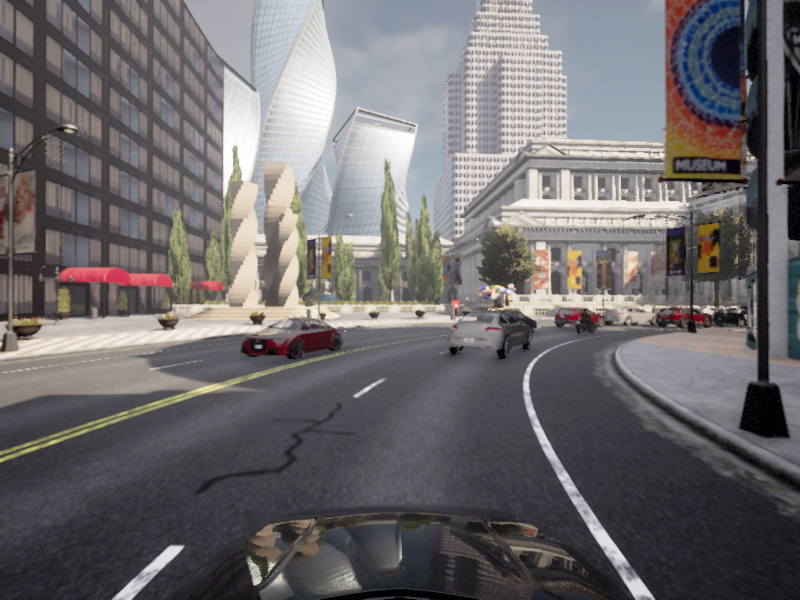vehicle: (233, 315, 346, 363), (440, 309, 535, 362), (474, 309, 540, 336), (708, 306, 784, 327), (650, 306, 717, 328), (549, 306, 608, 329), (598, 306, 661, 326), (652, 308, 721, 325), (571, 307, 600, 334)
